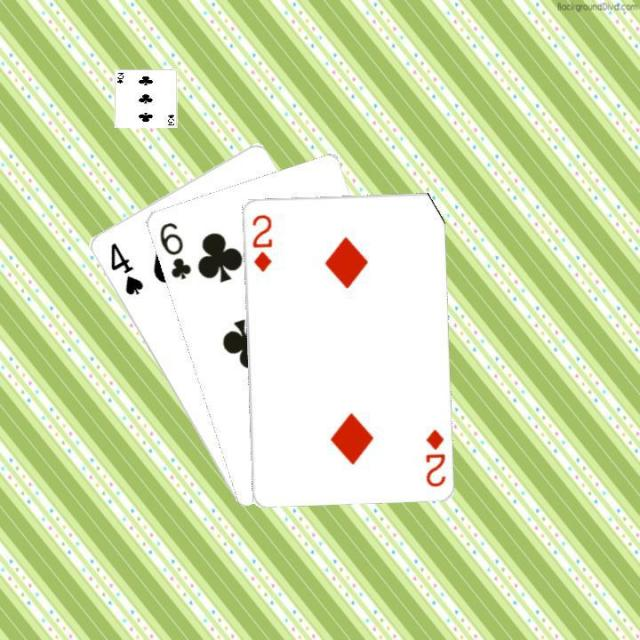2D: (421, 425, 447, 489), (247, 210, 273, 273)
4S: (106, 238, 145, 297)
6C: (155, 218, 193, 281)
